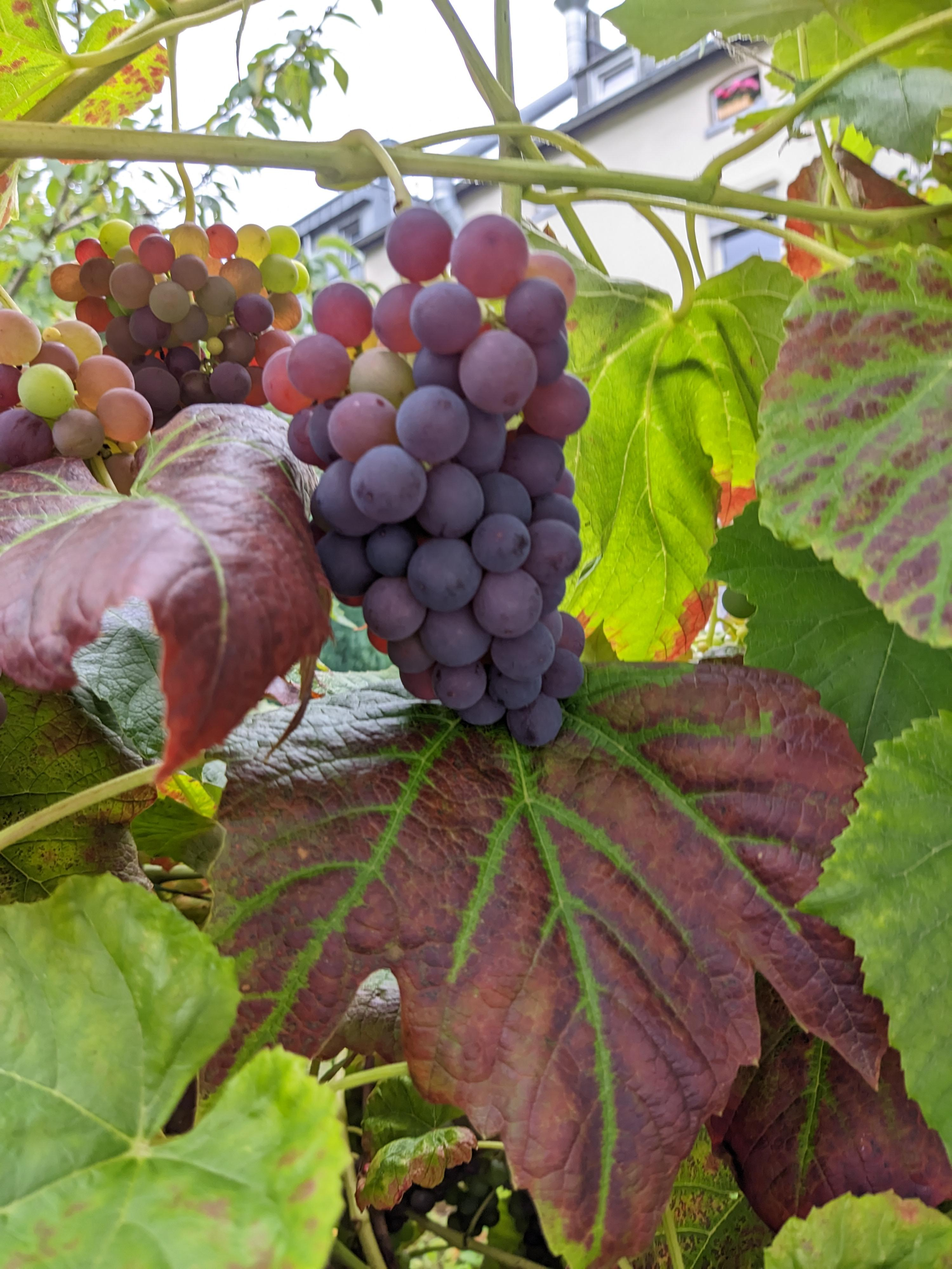Grape Unripe: (263, 198, 581, 766), (52, 204, 311, 428), (0, 302, 164, 486), (408, 1142, 514, 1252)
